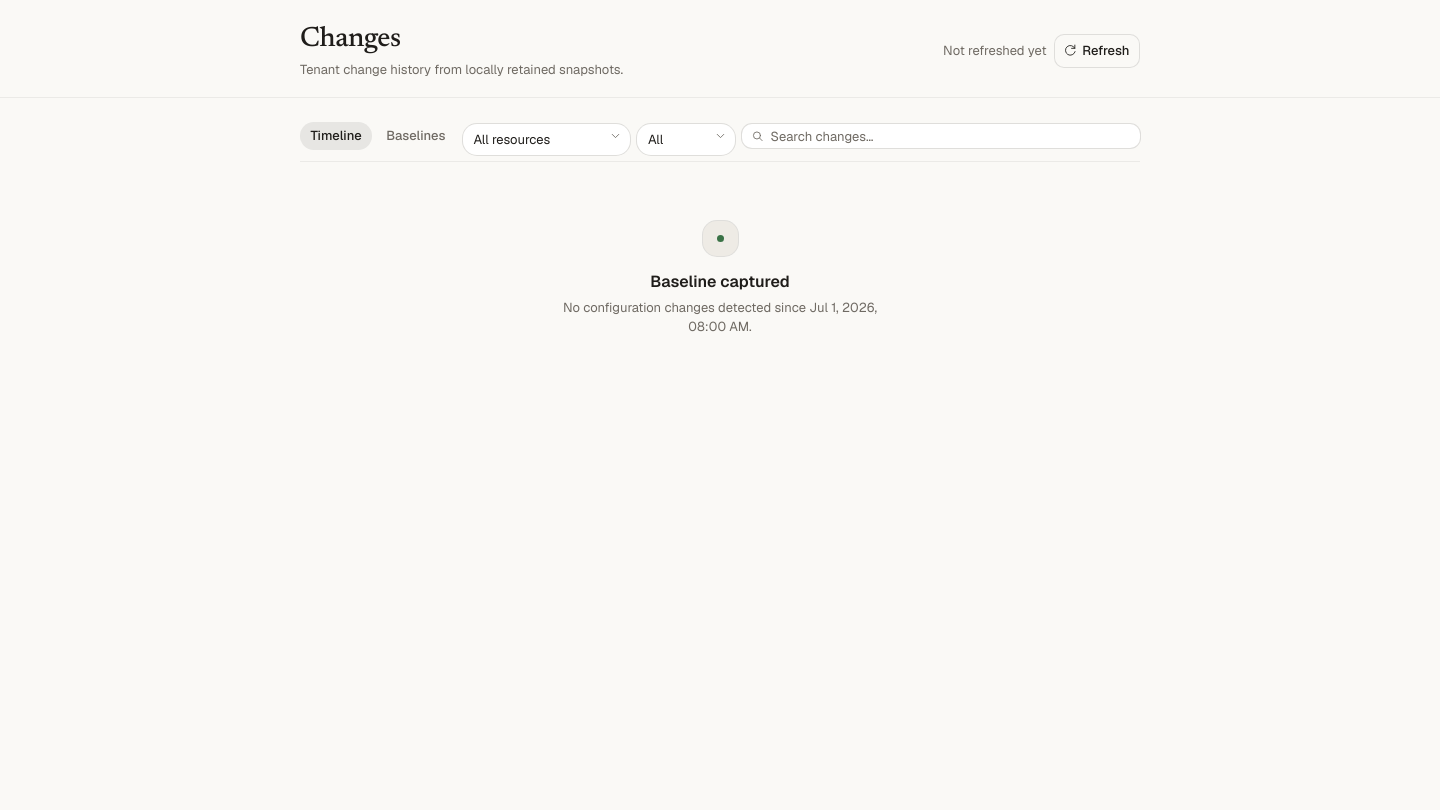
Test: Changes page › shows the baseline empty state and creates a named baseline
Step 1. Click the tab "Baselines" → coordinates (416, 136), box [376,122,456,150]
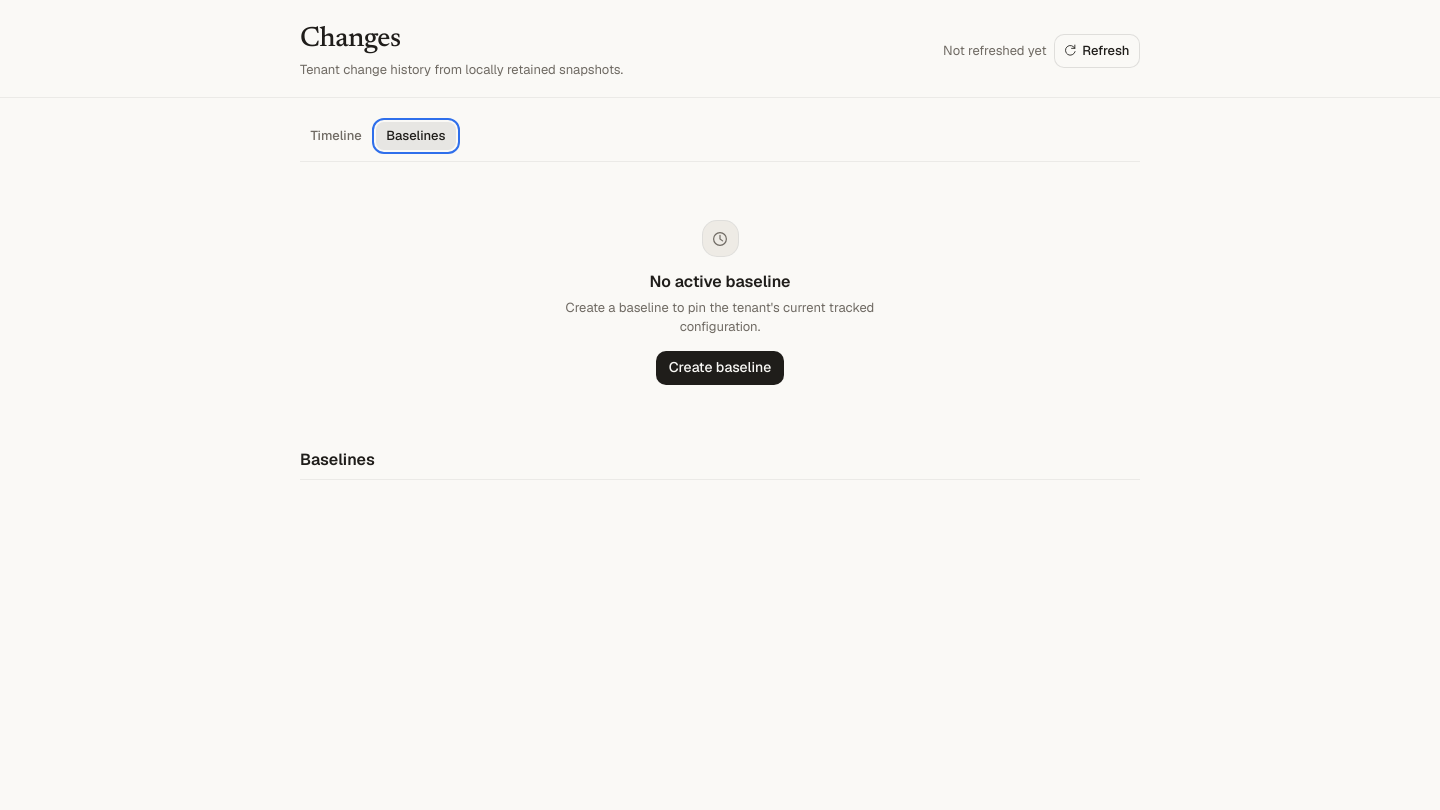
Now the text "Create a baseline to pin the tenant's current tracked configuration" is shown, box [566,298,874,335]
Step 2. Click the button "Create baseline" → coordinates (720, 368), box [656,350,784,384]
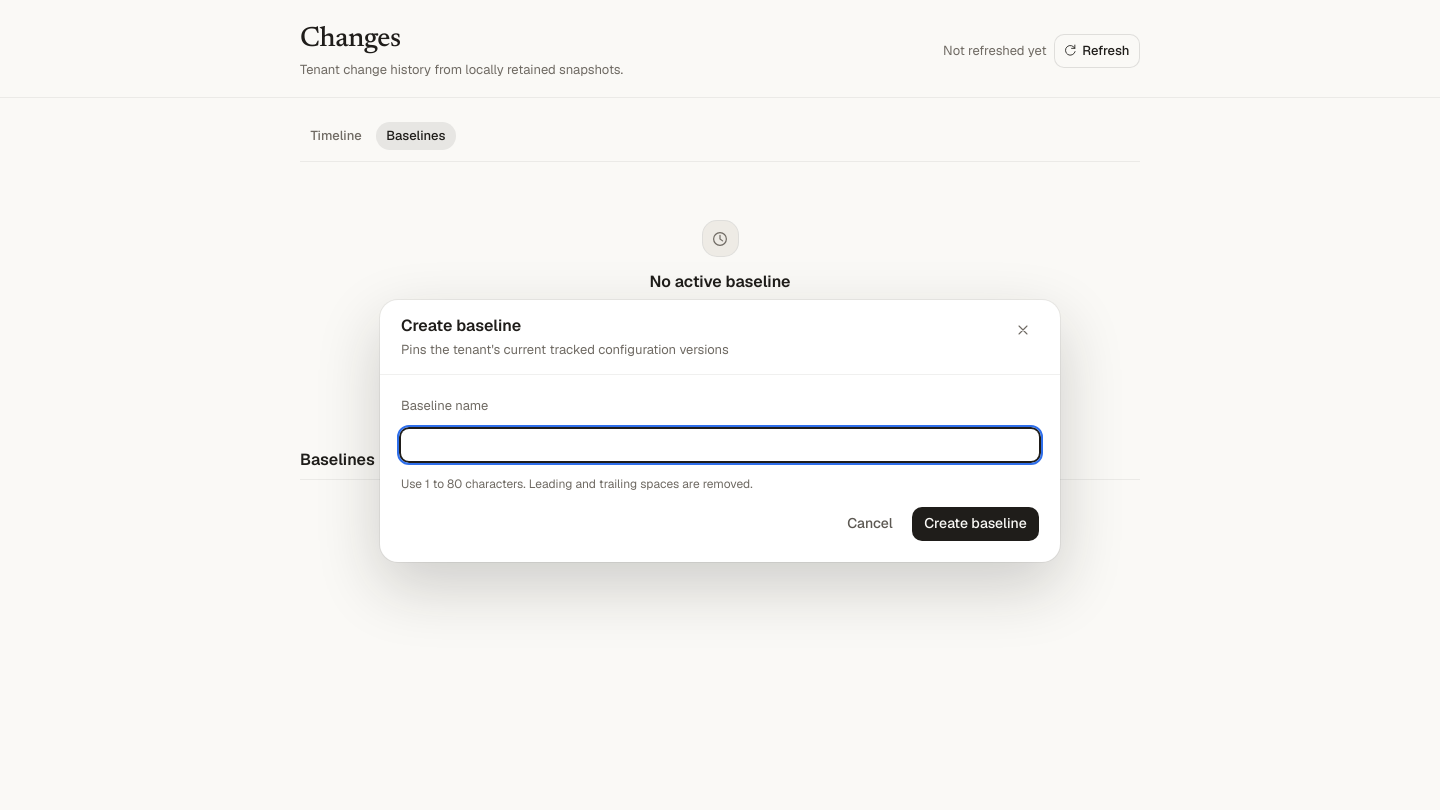
Step 3. Type "  Monthly control plane  " into the field labelled "Baseline name" → coordinates (720, 445), box [401,429,1039,461]
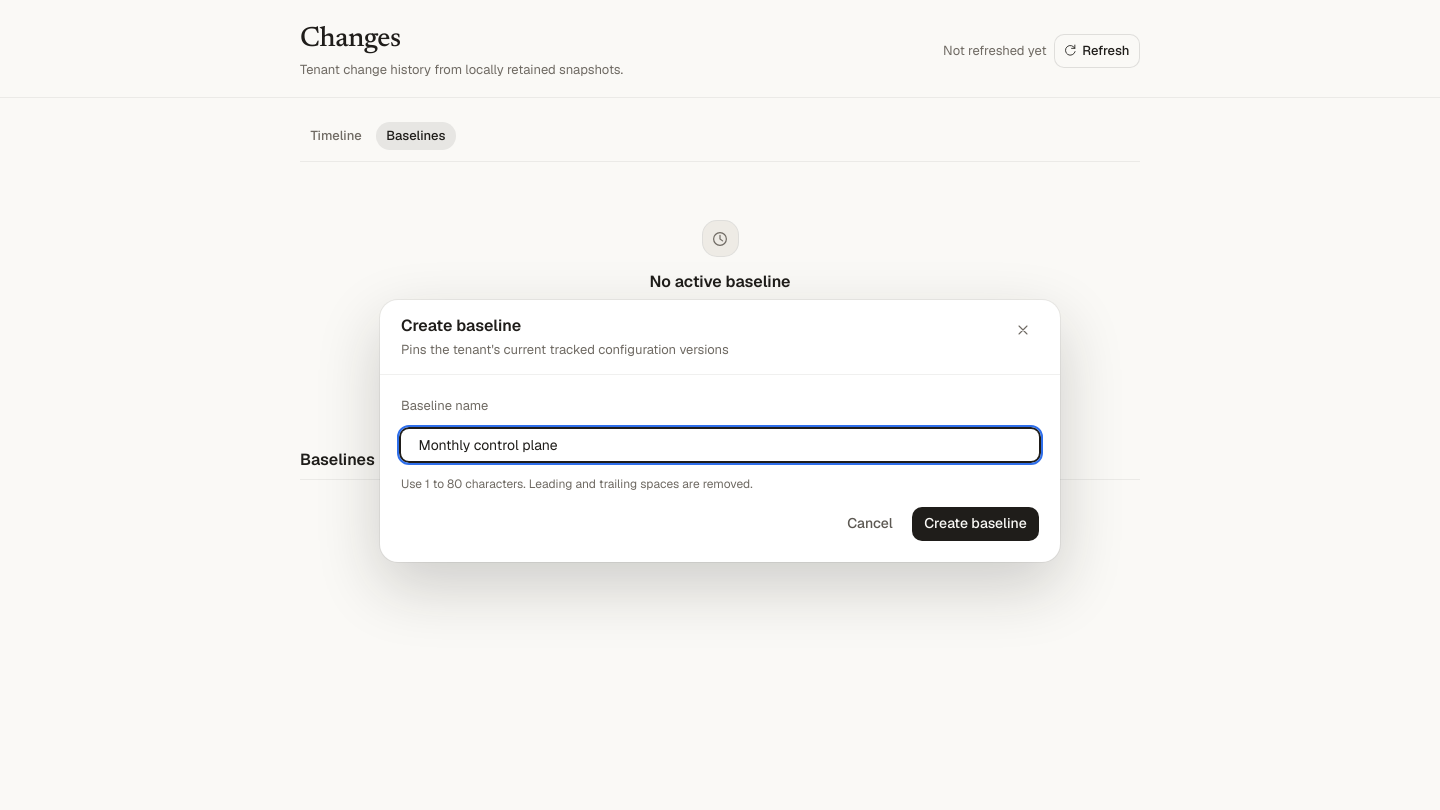
Step 4. Click the button "Create baseline" → coordinates (976, 524), box [912,507,1039,541]
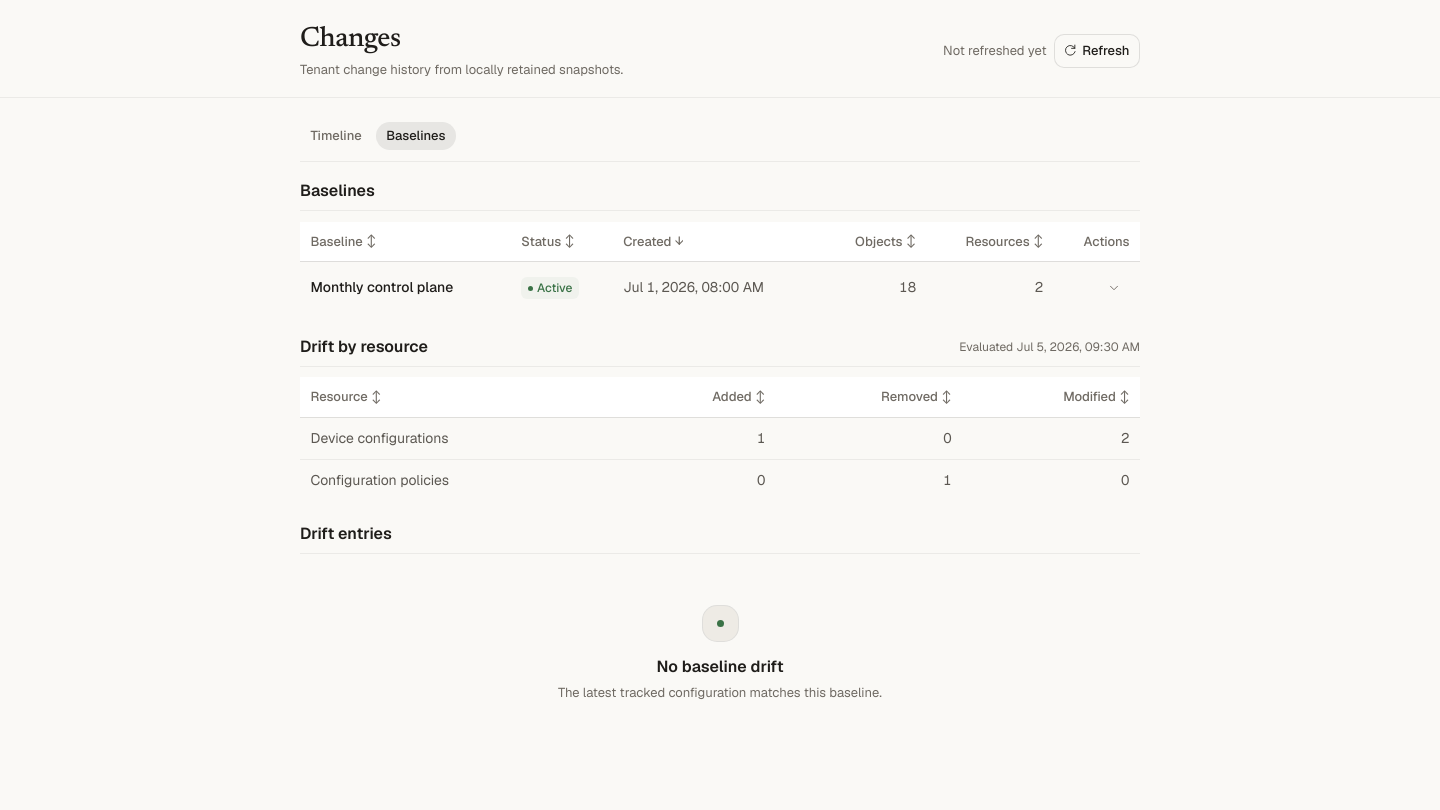
Now the text "Monthly control plane" is shown, box [310,278,453,296]
